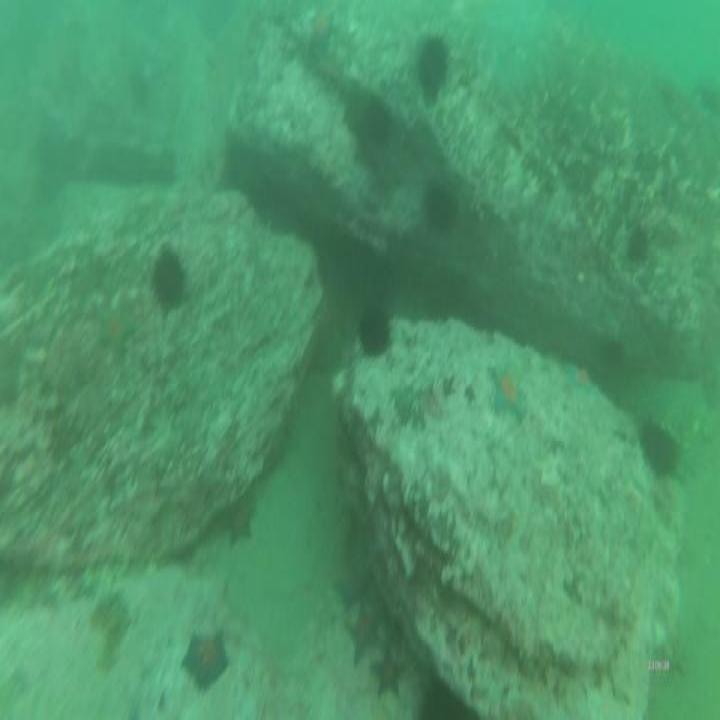echinus: (147, 240, 190, 316), (414, 32, 455, 101), (354, 295, 396, 361), (642, 412, 679, 486), (422, 176, 462, 238), (624, 224, 651, 265)
starfish: (180, 626, 233, 695), (91, 297, 136, 359), (486, 361, 528, 421), (344, 608, 384, 663), (331, 560, 374, 608), (372, 644, 406, 702), (221, 498, 257, 549), (563, 357, 595, 402), (305, 9, 340, 50)
